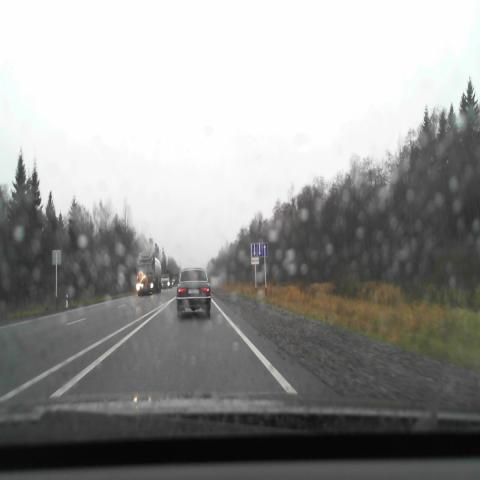5_15_7: (251, 243, 268, 257)
